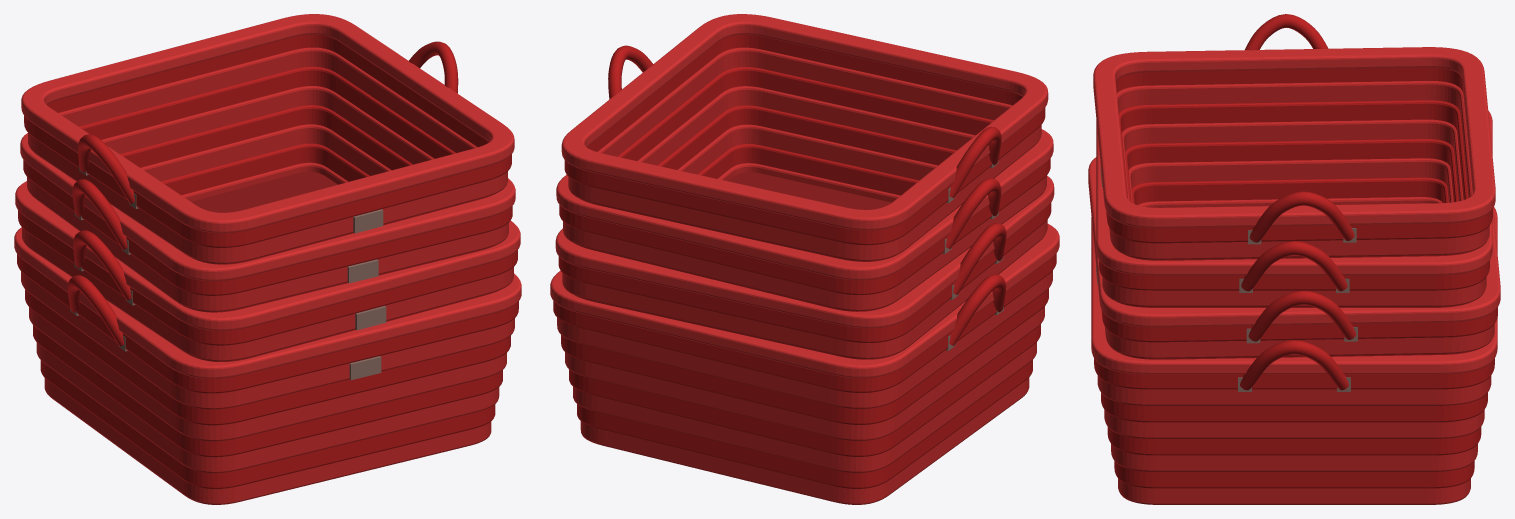
Rendered from red_large_square_pack_of_4.glb.
3 views of the same model, side by side, from view 1: azimuth 30°, elevation 25°; view 2: azimuth 150°, elevation 25°; view 3: azimuth 270°, elevation 25° (orthographic).
Visible parts, largest first — view 1: Basket_Tier_4, Basket_Tier_1, Basket_Tier_2, Basket_Tier_3; view 2: Basket_Tier_4, Basket_Tier_1, Basket_Tier_2, Basket_Tier_3; view 3: Basket_Tier_4, Basket_Tier_1, Basket_Tier_2, Basket_Tier_3.
Boxes of the visible parts, left/top/right/bottom form: Basket_Tier_4: left=21, top=14, right=514, bottom=264; Basket_Tier_1: left=14, top=227, right=521, bottom=504; Basket_Tier_2: left=15, top=181, right=520, bottom=361; Basket_Tier_3: left=20, top=133, right=515, bottom=312; Basket_Tier_4: left=561, top=14, right=1048, bottom=261; Basket_Tier_1: left=550, top=224, right=1059, bottom=504; Basket_Tier_2: left=555, top=176, right=1054, bottom=359; Basket_Tier_3: left=556, top=129, right=1053, bottom=311; Basket_Tier_4: left=1093, top=14, right=1495, bottom=260; Basket_Tier_1: left=1091, top=207, right=1497, bottom=504; Basket_Tier_2: left=1088, top=157, right=1500, bottom=359; Basket_Tier_3: left=1096, top=111, right=1492, bottom=307.
Bounding box in the file's own units: 11.37 × 9.14 × 10.42.
